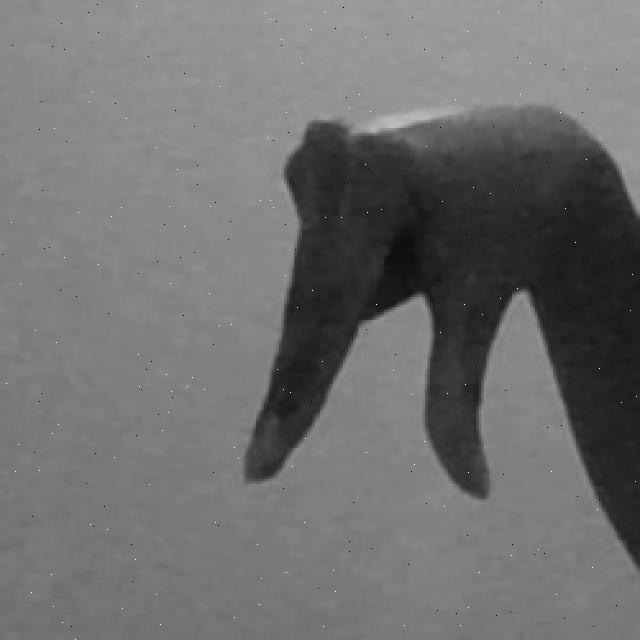Q: (233, 92, 640, 571)
